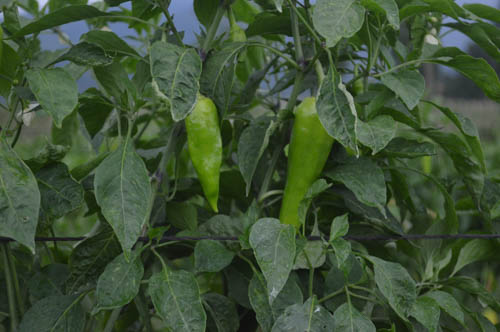ChiliPepper: (278, 95, 338, 238), (177, 95, 230, 216)
